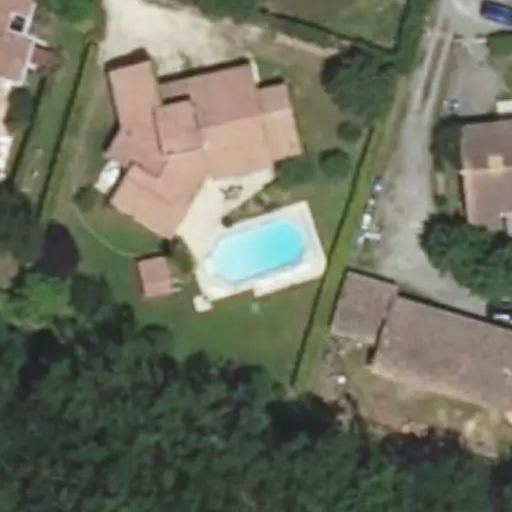pool: (205, 233, 306, 250)
